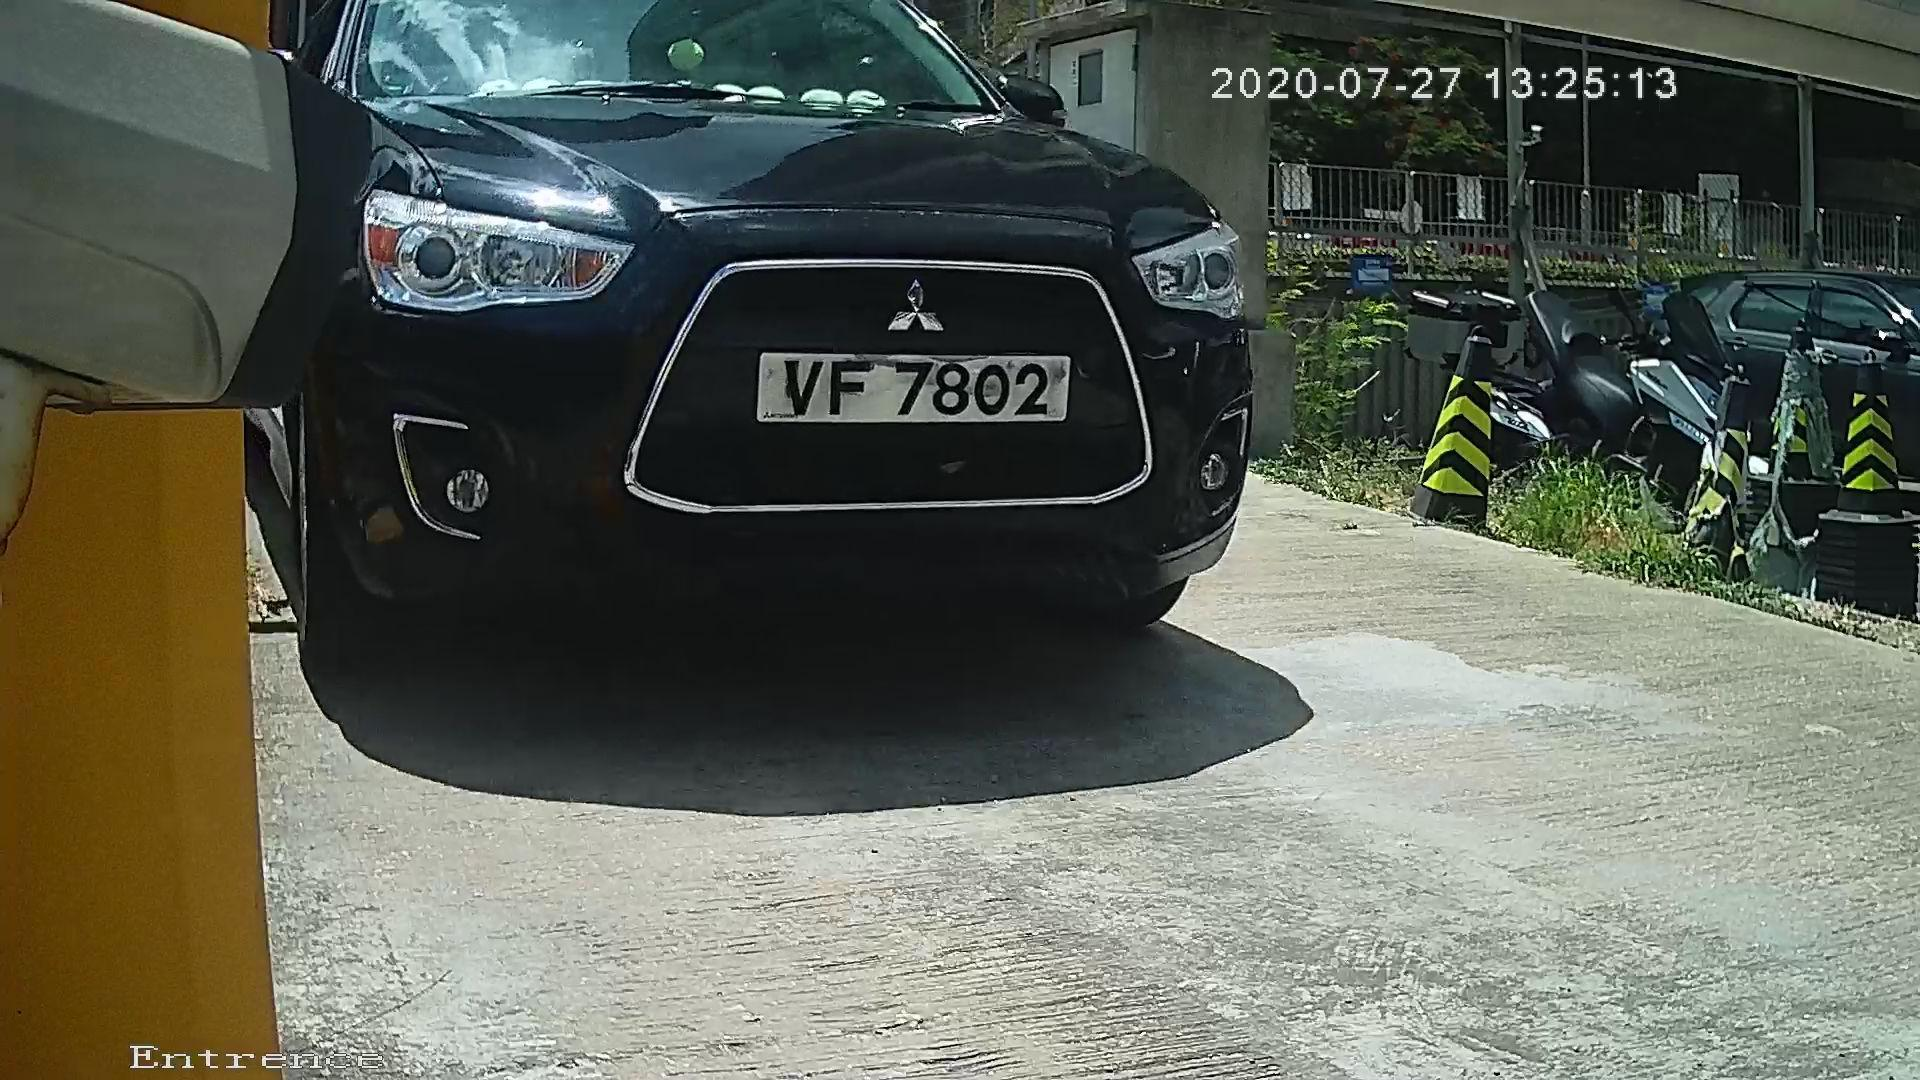Car: (155, 54, 1269, 685)
License Plate: (712, 343, 1089, 434)
